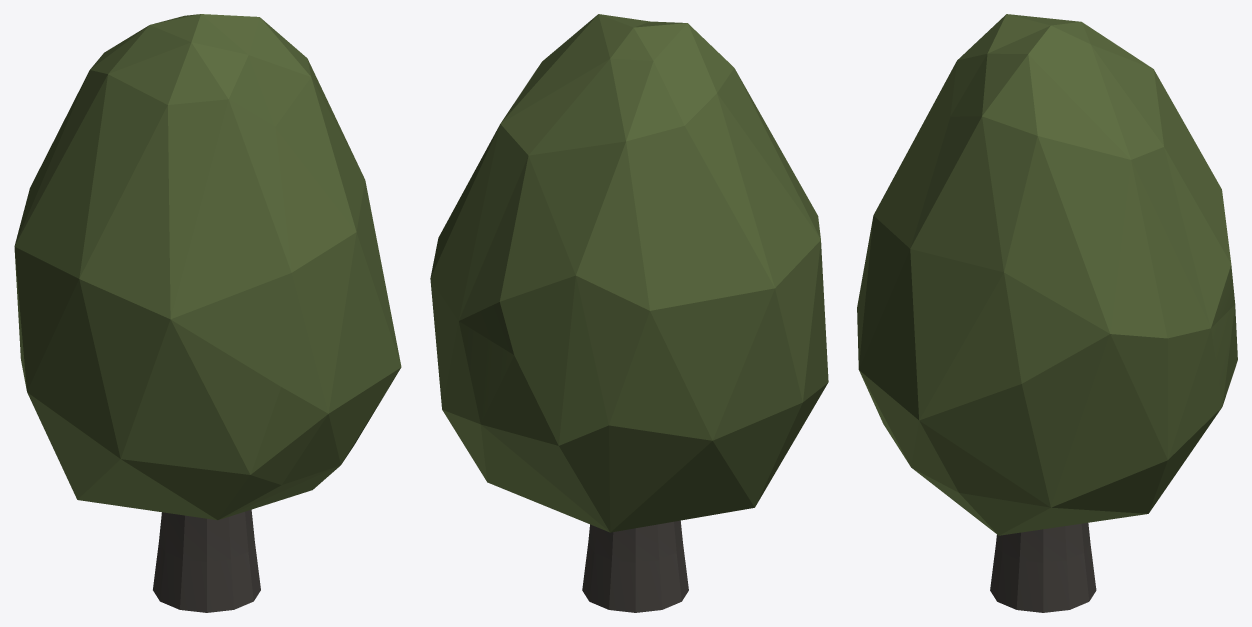
The model's file is Pointy Tree.fbx.
3 renders of one model, left to right at view 1: azimuth 30°, elevation 25°; view 2: azimuth 150°, elevation 25°; view 3: azimuth 270°, elevation 25°, orthographic.
Parts seen in each view (by area): view 1: Round Tree.001; view 2: Round Tree.001; view 3: Round Tree.001.
Boxes of the visible parts, bbox=[...] form: Round Tree.001: bbox=[14, 14, 401, 612]; Round Tree.001: bbox=[430, 14, 828, 612]; Round Tree.001: bbox=[857, 14, 1237, 612].
Size of the model in its own units: 388 by 625 by 383.
